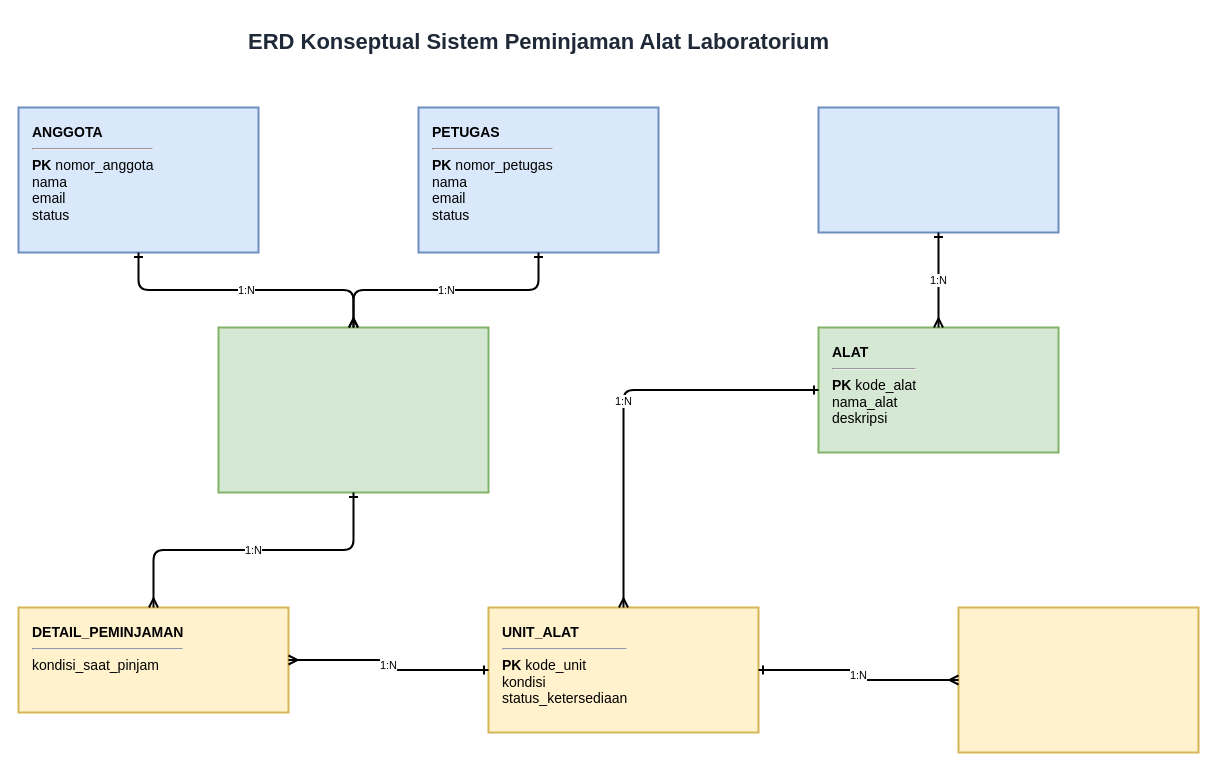
Some shapes in this 1216 by 770 pixel diagram are drawn without their labels. Each missing label, with the centre of its shape:
"KATEGORI PK kode_kategori nama_kategori deskripsi" goes at point (938, 169).
"PEMINJAMAN PK nomor_peminjaman tanggal_pinjam jatuh_tempo tanggal_kembali status" goes at point (353, 409).
"PERBAIKAN tanggal_mulai tanggal_selesai keterangan status" goes at point (1078, 679).
